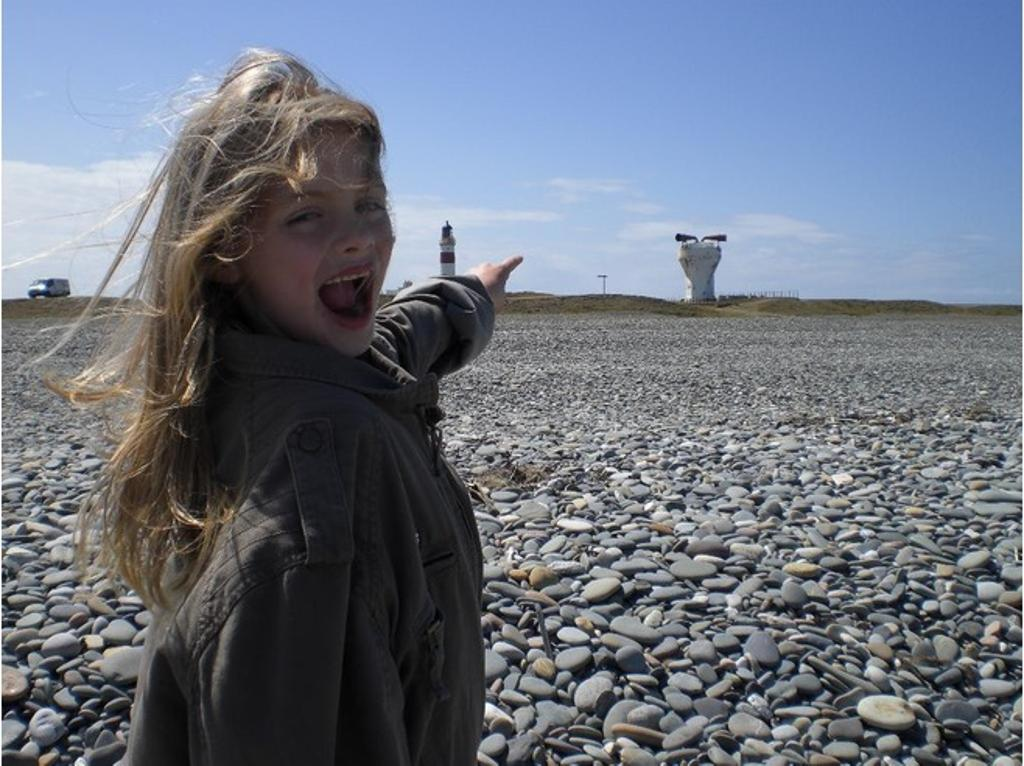face: (266, 118, 396, 356)
